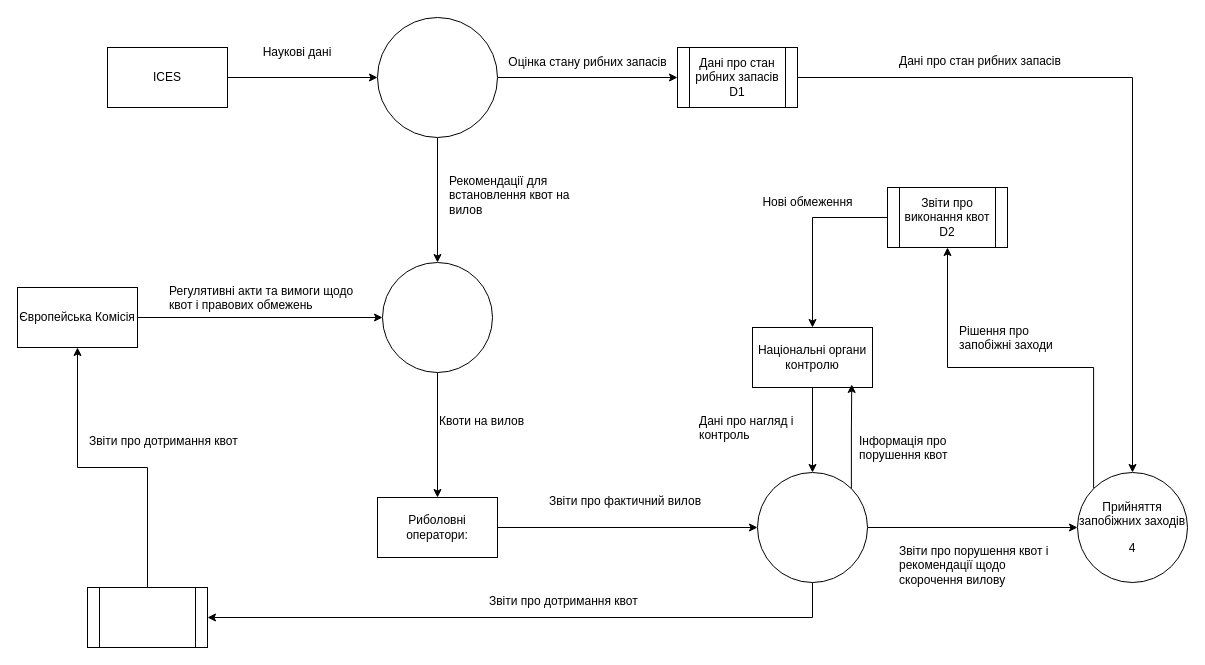
Image size: 1205x665. Some labels were removed from this diagram. The box of each missing label's shape, as (x1, y1, x2, y2) in pixels:
Встановлення квот на вилов 2: (382, 262, 492, 372)
Квоти на вилов D3: (86, 586, 208, 648)
Моніторинг виконання квот 3: (756, 472, 868, 582)
Оцінка стану рибних запасів 1: (376, 16, 498, 138)
